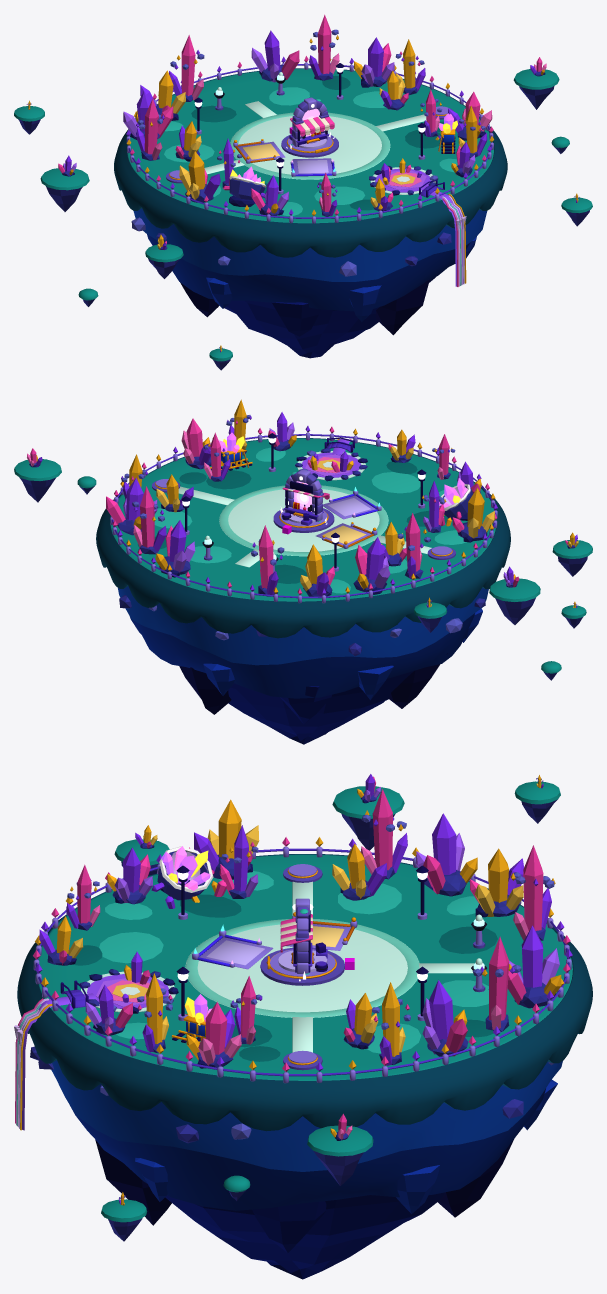
The model's file is crystal_belt_island.fbx.
3 views of the same model, one above another, from view 1: azimuth 30°, elevation 25°; view 2: azimuth 150°, elevation 25°; view 3: azimuth 270°, elevation 25° (orthographic). The views are drawn at different scales.
Parts seen in each view (by area): view 1: CrystalBelt_Island, CrystalBelt_Trees, CrystalBelt_Paths, CrystalBelt_Dressing, CrystalBelt_FloatingRocks, CrystalBelt_Water, CrystalBelt_BossPlinth, CrystalBelt_Stall, CrystalBelt_Glow, CrystalBelt_Portal; view 2: CrystalBelt_Island, CrystalBelt_Trees, CrystalBelt_Paths, CrystalBelt_Dressing, CrystalBelt_FloatingRocks, CrystalBelt_Glow, CrystalBelt_Water, CrystalBelt_Stall, CrystalBelt_Portal, CrystalBelt_BossPlinth; view 3: CrystalBelt_Island, CrystalBelt_Trees, CrystalBelt_Paths, CrystalBelt_Dressing, CrystalBelt_FloatingRocks, CrystalBelt_Water, CrystalBelt_Glow, CrystalBelt_BossPlinth, CrystalBelt_Stall, CrystalBelt_Portal.
Boxes of the visible parts, x1,y1,x2,y2 form: CrystalBelt_Island: [114, 68, 507, 358]; CrystalBelt_Trees: [123, 14, 492, 216]; CrystalBelt_Paths: [166, 101, 453, 183]; CrystalBelt_Dressing: [126, 56, 493, 223]; CrystalBelt_FloatingRocks: [14, 57, 592, 370]; CrystalBelt_Water: [375, 168, 466, 286]; CrystalBelt_BossPlinth: [281, 134, 338, 157]; CrystalBelt_Stall: [289, 116, 334, 146]; CrystalBelt_Glow: [194, 67, 457, 183]; CrystalBelt_Portal: [286, 97, 334, 149]; CrystalBelt_Island: [96, 438, 510, 744]; CrystalBelt_Trees: [106, 399, 495, 596]; CrystalBelt_Paths: [152, 479, 455, 567]; CrystalBelt_Dressing: [110, 426, 497, 603]; CrystalBelt_FloatingRocks: [14, 448, 592, 680]; CrystalBelt_Glow: [182, 432, 467, 559]; CrystalBelt_Water: [302, 438, 361, 477]; CrystalBelt_Stall: [282, 481, 329, 525]; CrystalBelt_Portal: [280, 469, 327, 524]; CrystalBelt_BossPlinth: [273, 508, 334, 532]; CrystalBelt_Island: [17, 854, 592, 1279]; CrystalBelt_Trees: [39, 789, 561, 1068]; CrystalBelt_Paths: [185, 864, 474, 1070]; CrystalBelt_Dressing: [33, 837, 572, 1083]; CrystalBelt_FloatingRocks: [101, 774, 560, 1241]; CrystalBelt_Water: [14, 974, 169, 1130]; CrystalBelt_Glow: [161, 846, 484, 1025]; CrystalBelt_BossPlinth: [260, 947, 344, 985]; CrystalBelt_Stall: [280, 910, 327, 972]; CrystalBelt_Portal: [292, 898, 313, 981].
Size of the model in its own units: 181 by 94.96 by 123.
